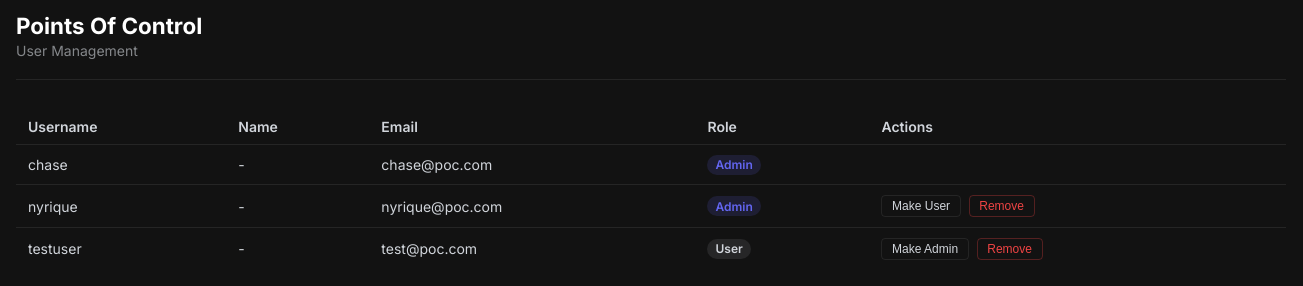
AdminDirectory › shows inline confirm when Remove is clicked
Expected: the text "testuser" is shown, 16,227 -> 226,270
Step 1. Click the button "Remove" in the row of "nyrique@poc.com" → [1002, 206], box 969,195 -> 1035,217
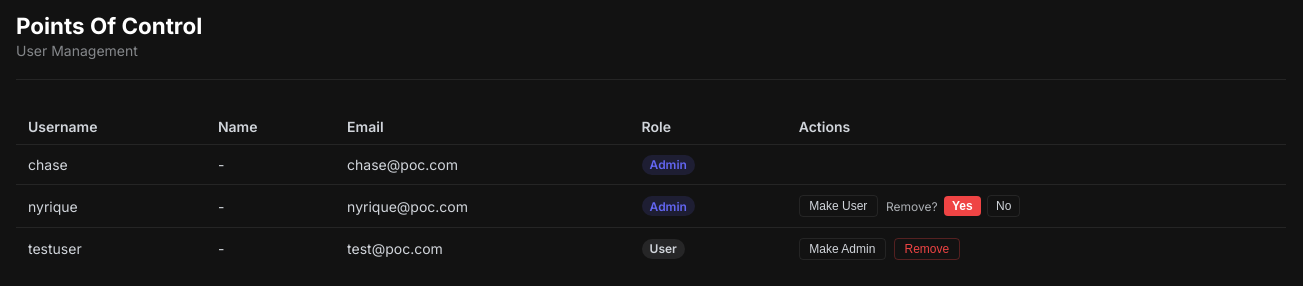
Expected: the text "Remove?" is shown, 886,199 -> 938,214
